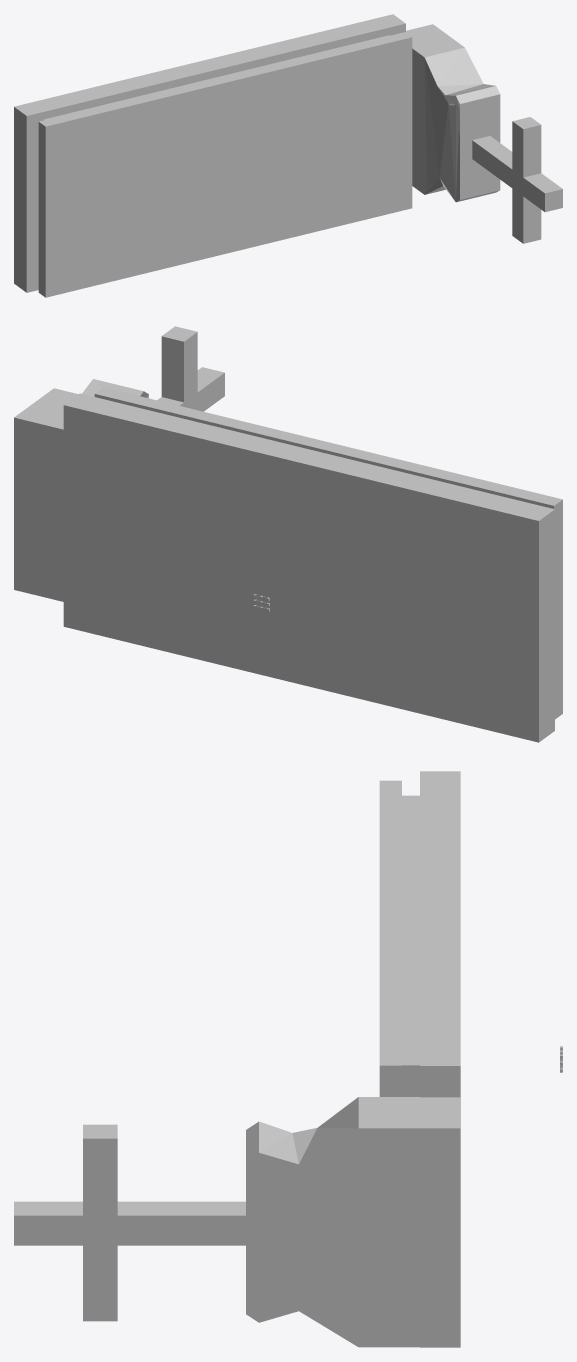
File: grave1_wtf.obj
3 views of the same model, one above another, from view 1: azimuth 30°, elevation 25°; view 2: azimuth 150°, elevation 25°; view 3: azimuth 270°, elevation 25° (orthographic). The views are drawn at different scales.
Parts seen in each view (by area): view 1: group21; view 2: group21; view 3: group21.
Boxes of the visible parts, left/top/right/bottom form: group21: left=14, top=14, right=562, bottom=297; group21: left=14, top=326, right=562, bottom=742; group21: left=14, top=771, right=460, bottom=1347.
Bounding box in the file's own units: 660 × 266 × 470.
